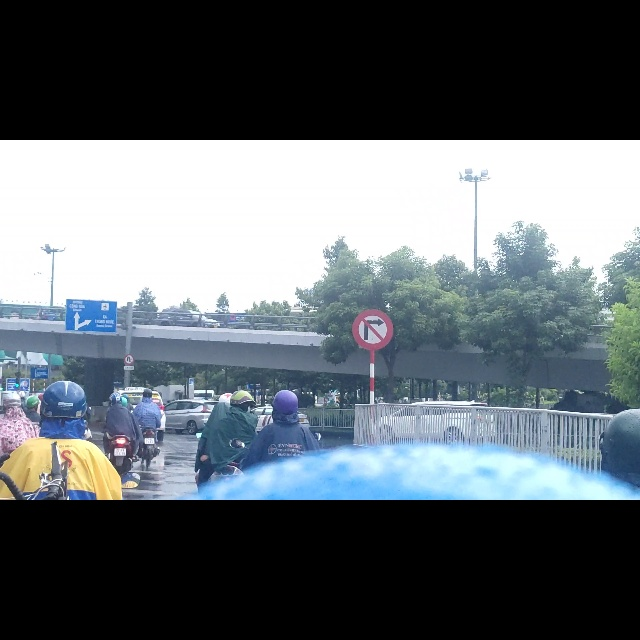bien_chi_dan: (352, 299, 393, 373)
